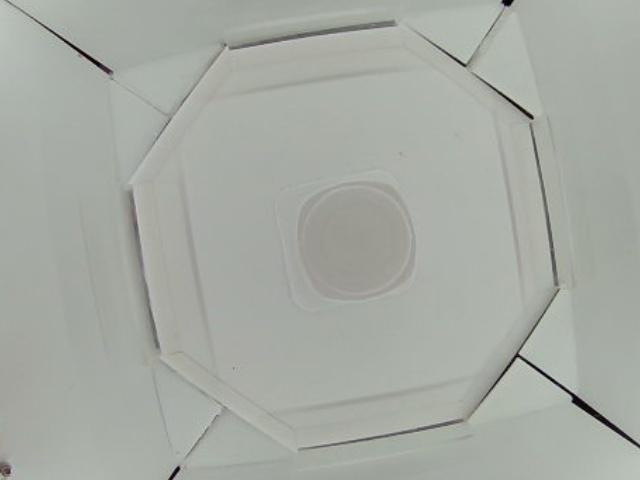Cup: (276, 171, 419, 313)
